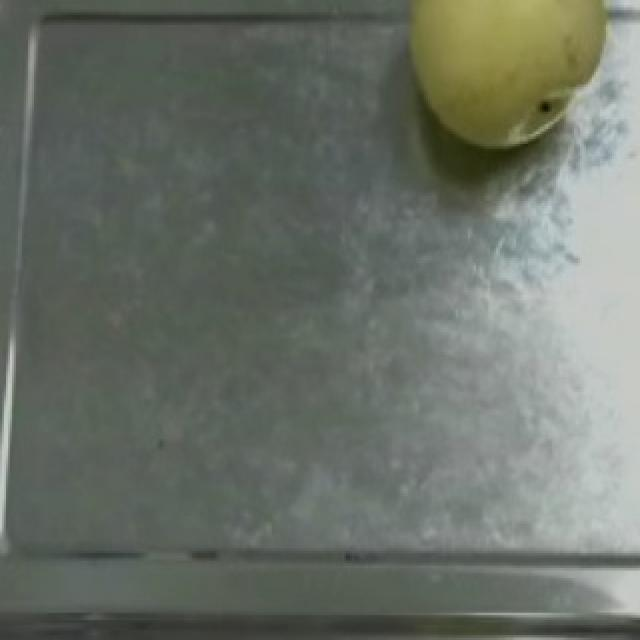Fruit: (386, 0, 634, 161)
